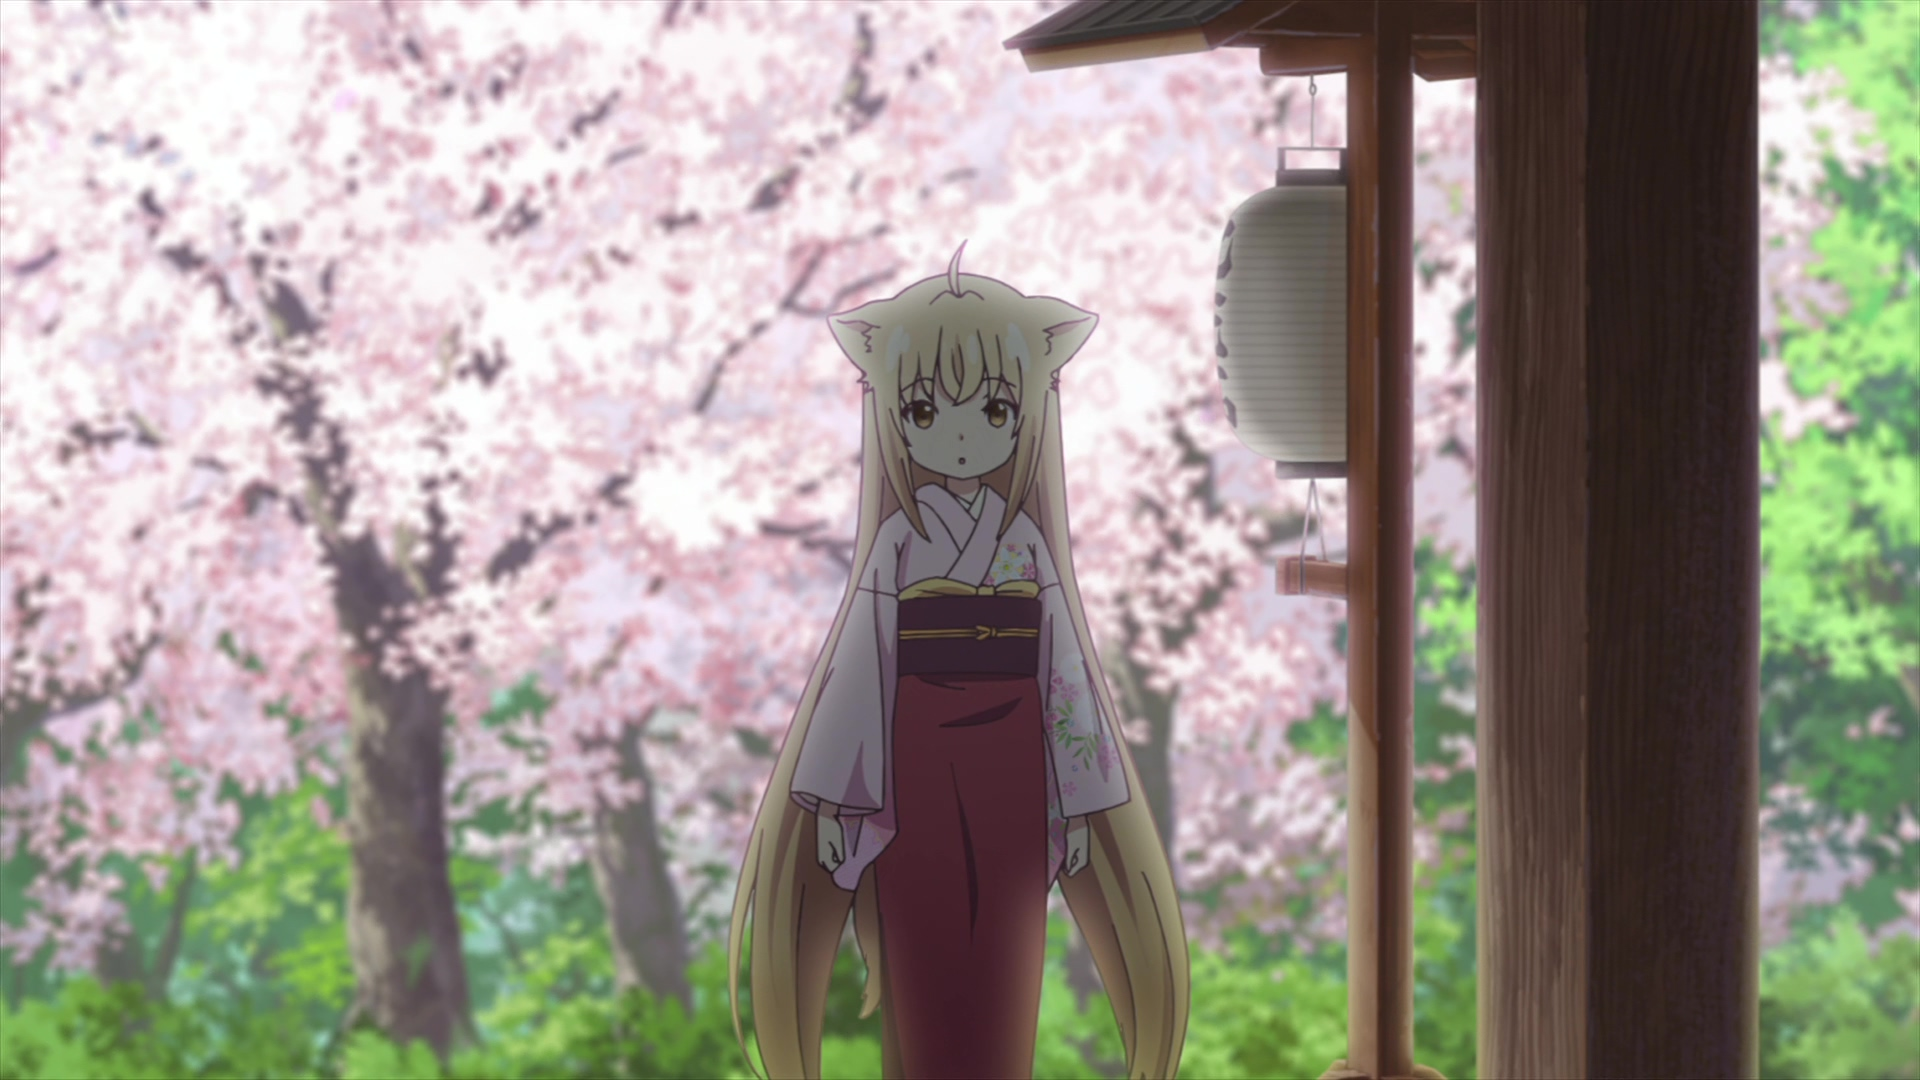柚: (727, 237, 1191, 1080)
